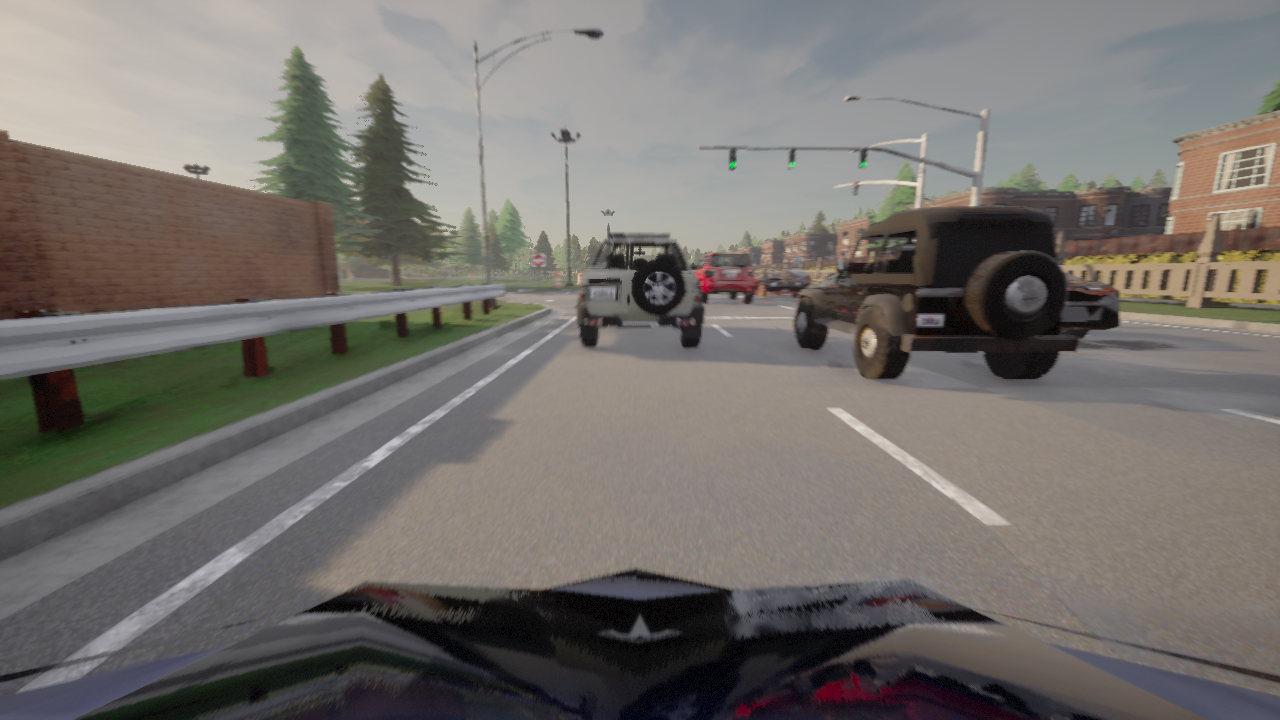cyclist: (0, 569, 1279, 719), (794, 207, 1079, 380), (576, 234, 703, 348), (1061, 273, 1119, 338), (691, 252, 755, 302), (754, 272, 804, 297), (778, 269, 810, 290)
